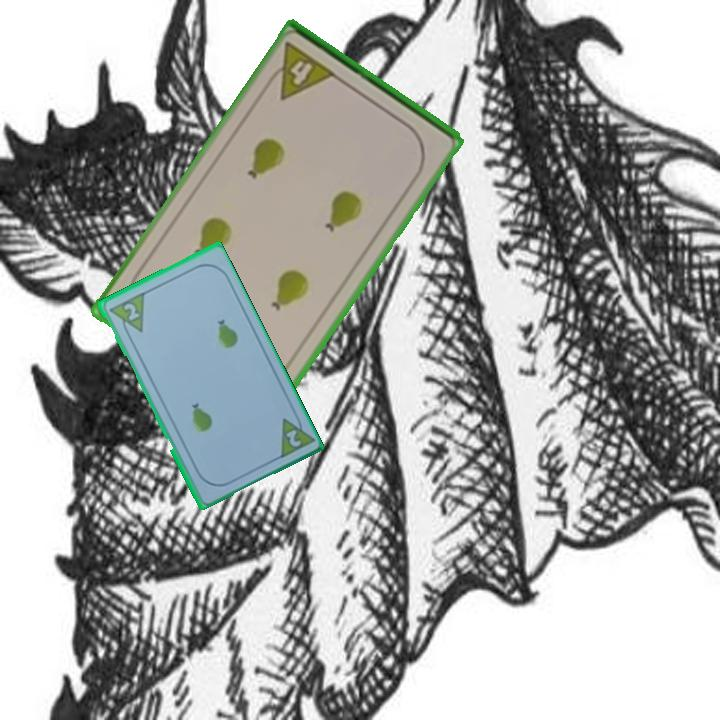2p: (120, 299, 142, 323), (282, 426, 304, 450)
4p: (261, 39, 339, 103)
